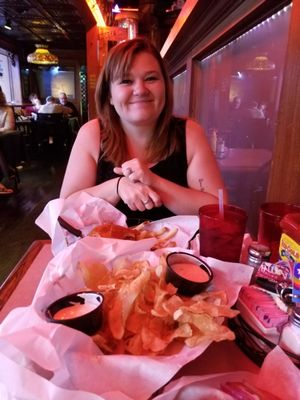pizza: (198, 203, 248, 262)
